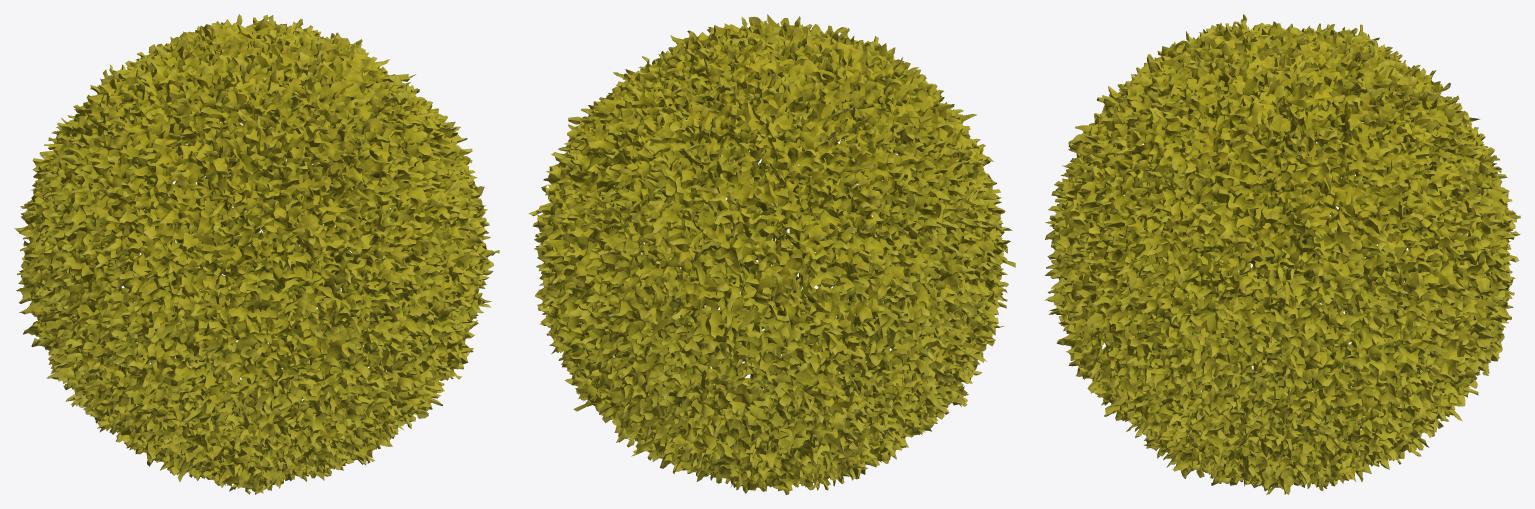
The model's file is task-4891910.glb.
3 renders of one model, left to right at view 1: azimuth 30°, elevation 25°; view 2: azimuth 150°, elevation 25°; view 3: azimuth 270°, elevation 25°, orthographic.
Parts seen in each view (by area): view 1: world; view 2: world; view 3: world.
Boxes of the visible parts, x1,y1,x2,y2 form: world: (14, 14, 499, 494); world: (528, 14, 1015, 494); world: (1044, 14, 1520, 494).
Size of the model in its own units: 0.3 by 0.293 by 0.2984.
1 material, 1 textured.
